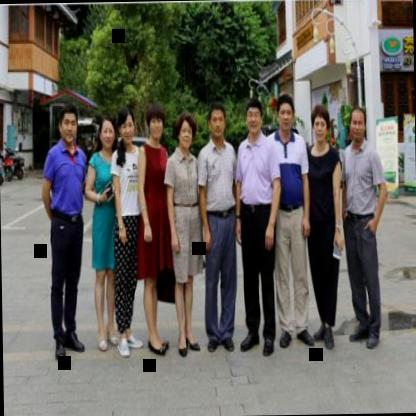head: (54, 102, 80, 146), (116, 102, 139, 148), (309, 102, 331, 149), (144, 101, 168, 144), (345, 103, 368, 147), (206, 100, 228, 144), (242, 96, 264, 138), (274, 94, 296, 136), (174, 113, 196, 153), (95, 115, 117, 154)
